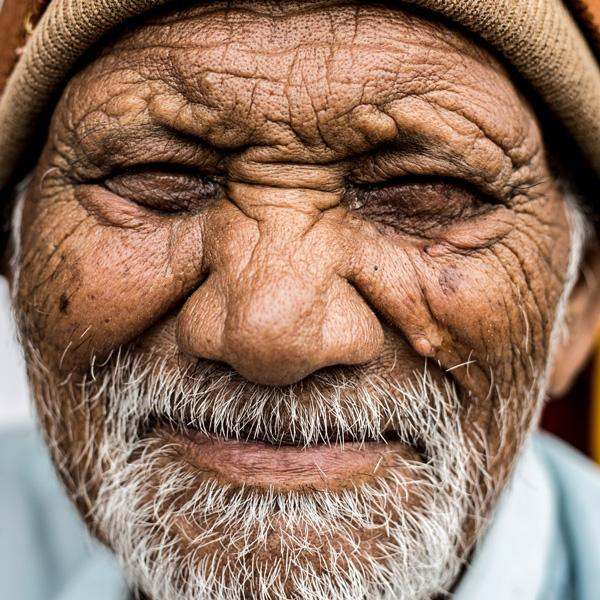Eyes: (347, 126, 488, 233), (85, 132, 230, 221)
